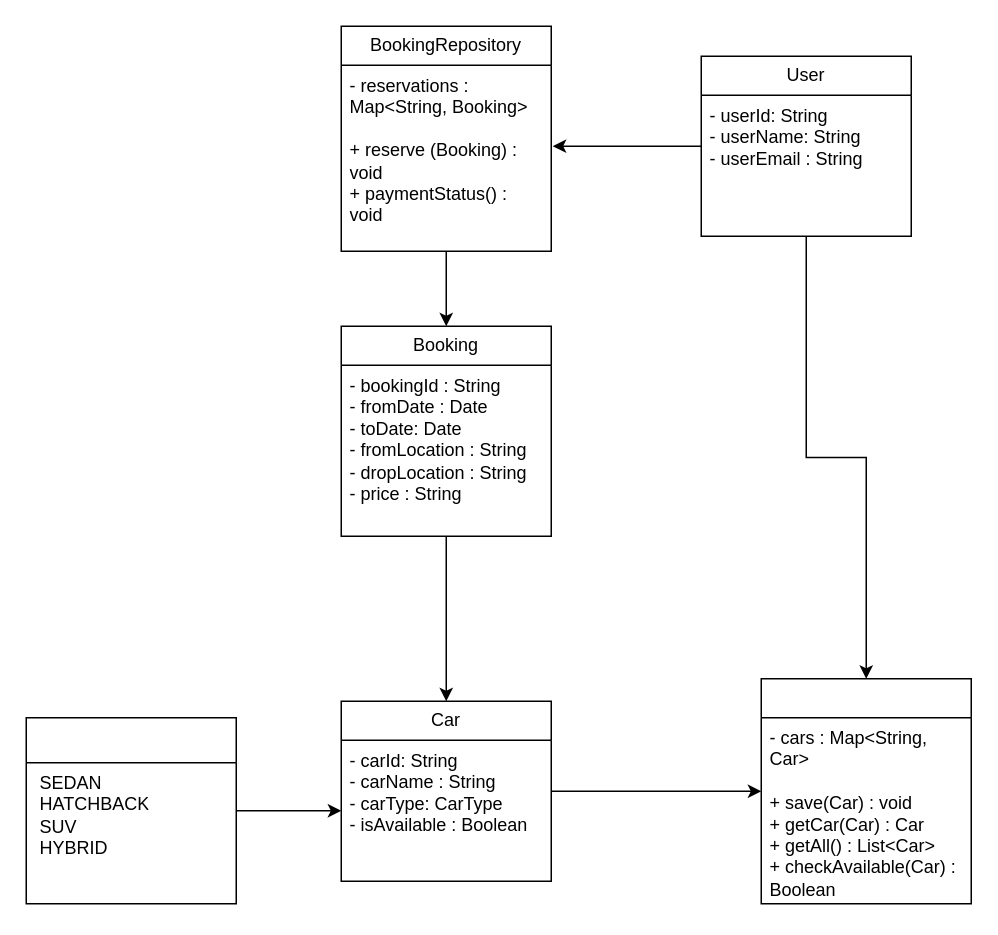
This 998x935 diagram has some shape labels left out. The shapes that lost their labels are listed below. From the top down, each one's box as (x1, y1, x2, y2) in pixels, then its label:
(25, 716, 236, 904): <<enum>> CarType
(760, 677, 971, 904): CarRepository
